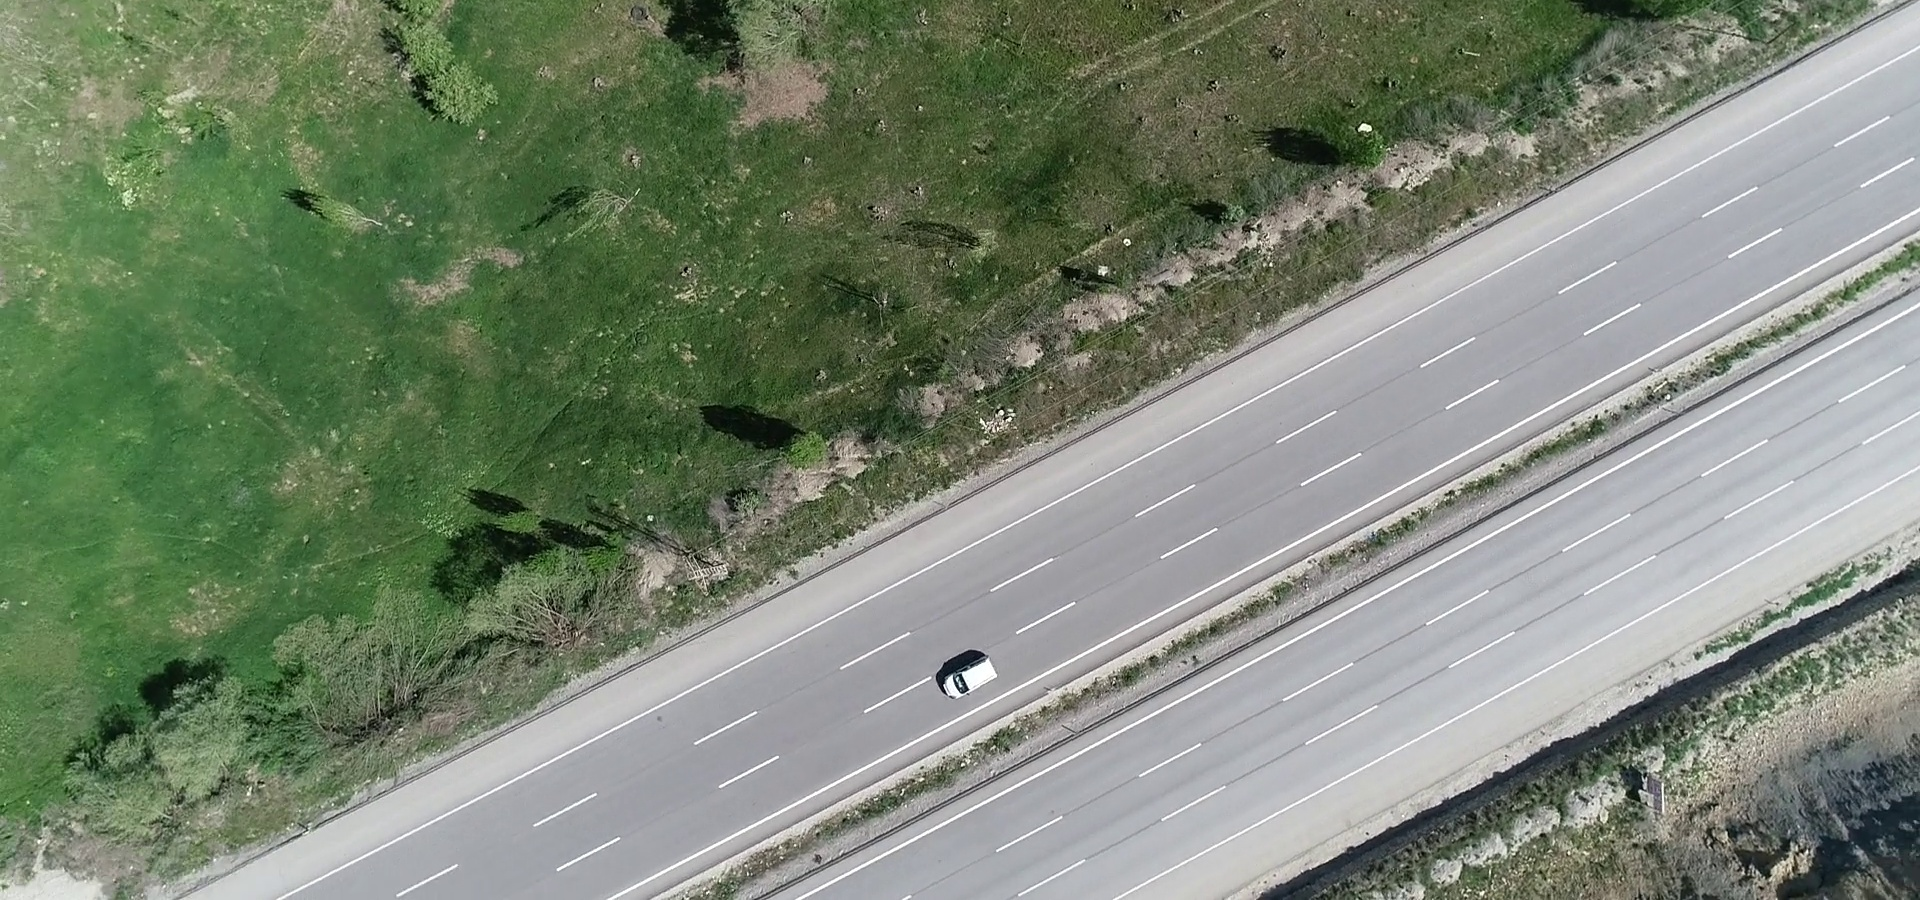arac: (936, 644, 1000, 708)
